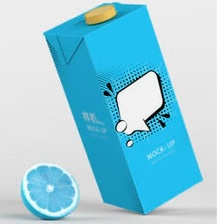carton: (39, 0, 205, 220)
